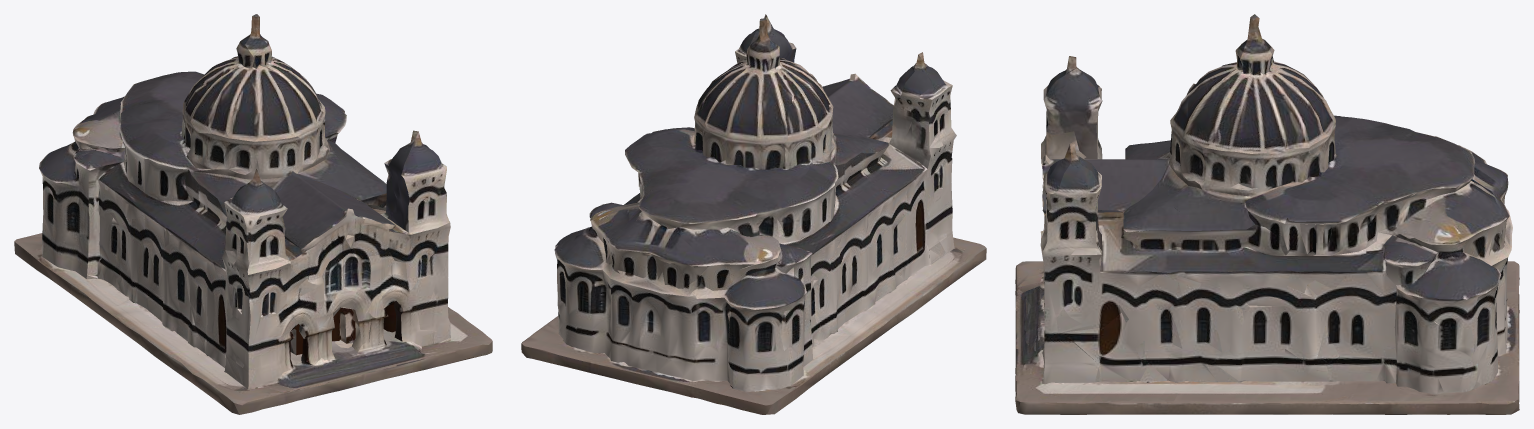
Rendered from our-lady-angels-basilica-cartago.glb.
3 renders of one model, left to right at view 1: azimuth 30°, elevation 25°; view 2: azimuth 150°, elevation 25°; view 3: azimuth 270°, elevation 25°, orthographic. The views are drawn at different scales.
Parts seen in each view (by area): view 1: logan-textured.obj; view 2: logan-textured.obj; view 3: logan-textured.obj.
Part boxes in pixels (<box>): logan-textured.obj: <box>14,14,492,414</box>; logan-textured.obj: <box>521,14,986,414</box>; logan-textured.obj: <box>1015,14,1519,414</box>.
Size of the model in its own units: 0.6682 by 0.7144 by 1.
Materials: 1 (1 with a texture image).
